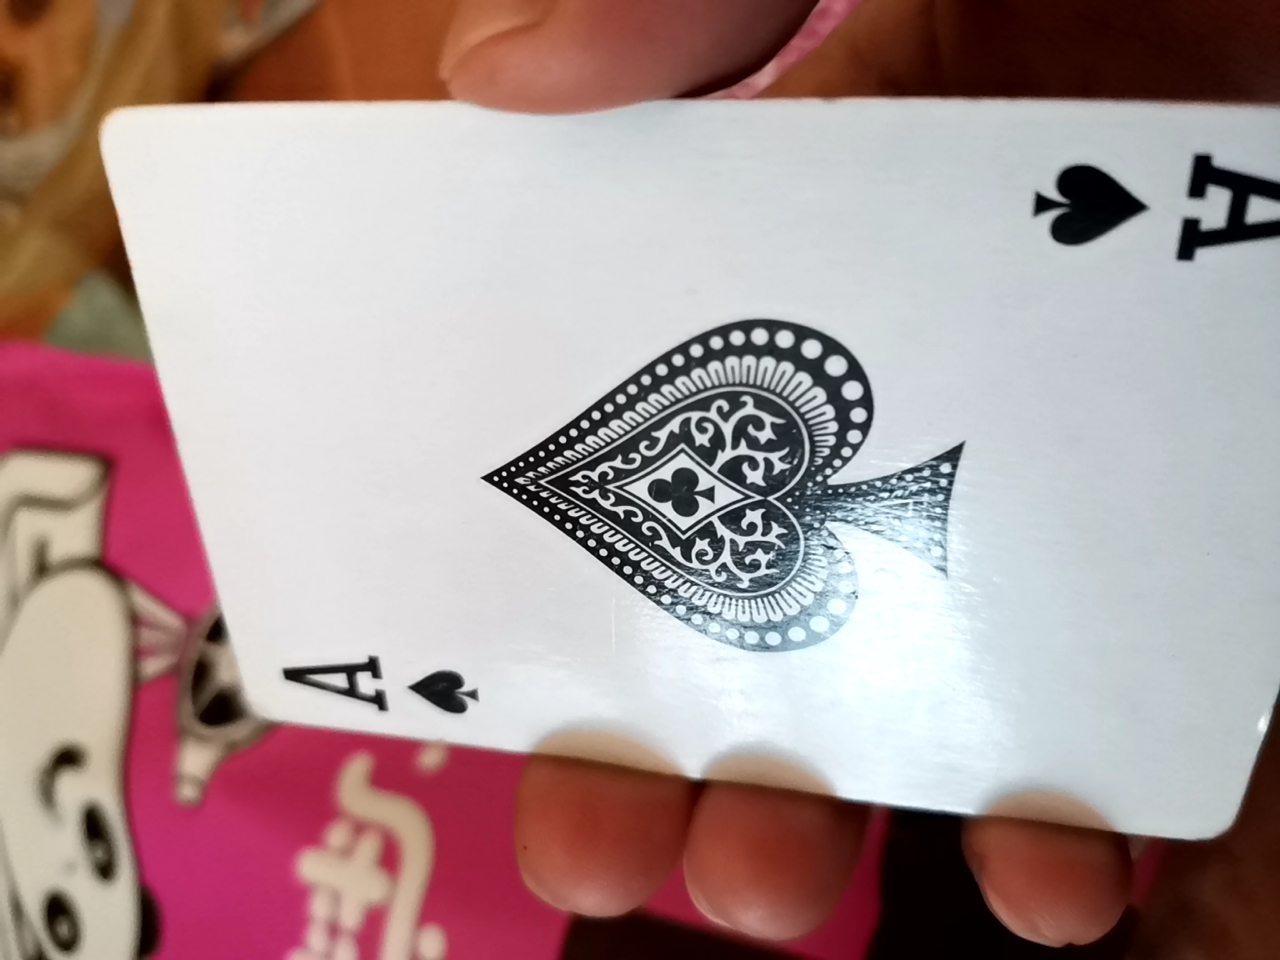ht a: (109, 79, 1273, 878)
